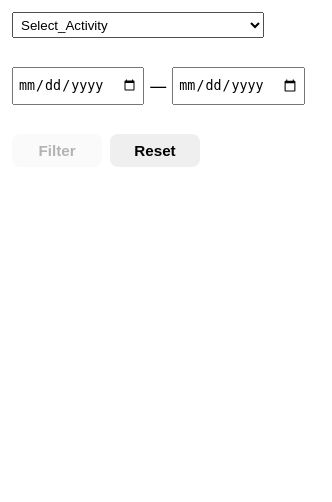
Test case: FilterBar › when Activity is "One_Hand_Pullups", condition dropdown appears and Filter stays disabled until condition chosen
Select "One_Hand_Pullups" in the dropdown named "Activity_Name" at (138, 25), box [12,12,264,38]
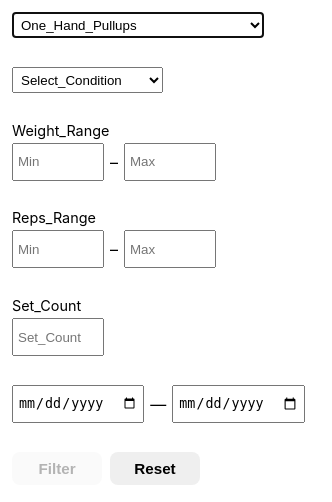
Expected: the button "Filter" is disabled, [12,452,102,485]
Expected: the dropdown named "Condition" is shown
Select "Rope_Assisted" in the dropdown named "Condition" at (88, 80), box [12,67,163,93]
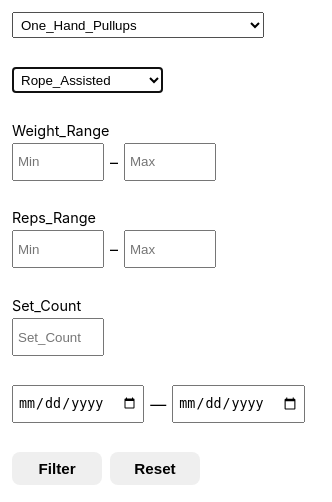
Expected: the button "Filter" is enabled, [12,452,102,485]
